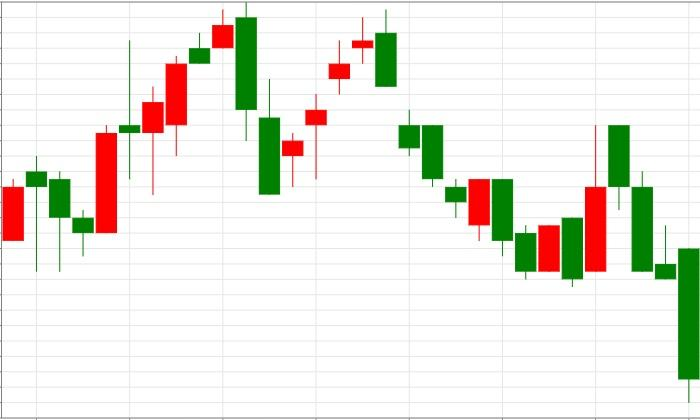bearish_engulfing_fall: (71, 1, 257, 256), (258, 10, 397, 194)
inverse_hammer_rise: (608, 125, 677, 280)
